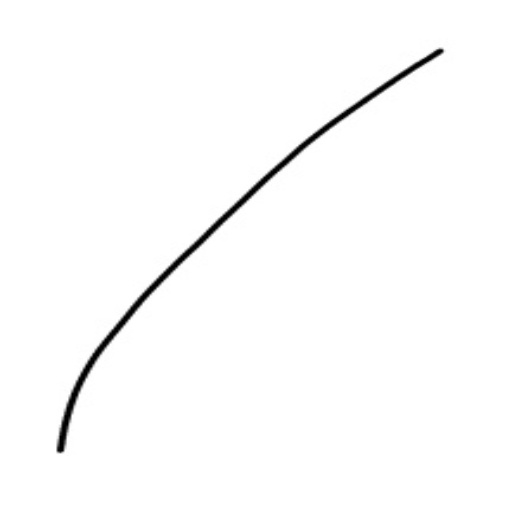line: (47, 42, 447, 459)
